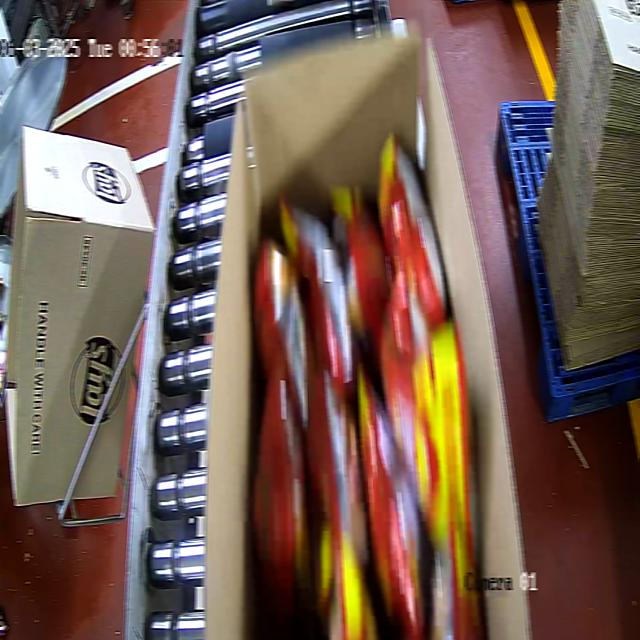MASALA: (248, 132, 486, 638)
